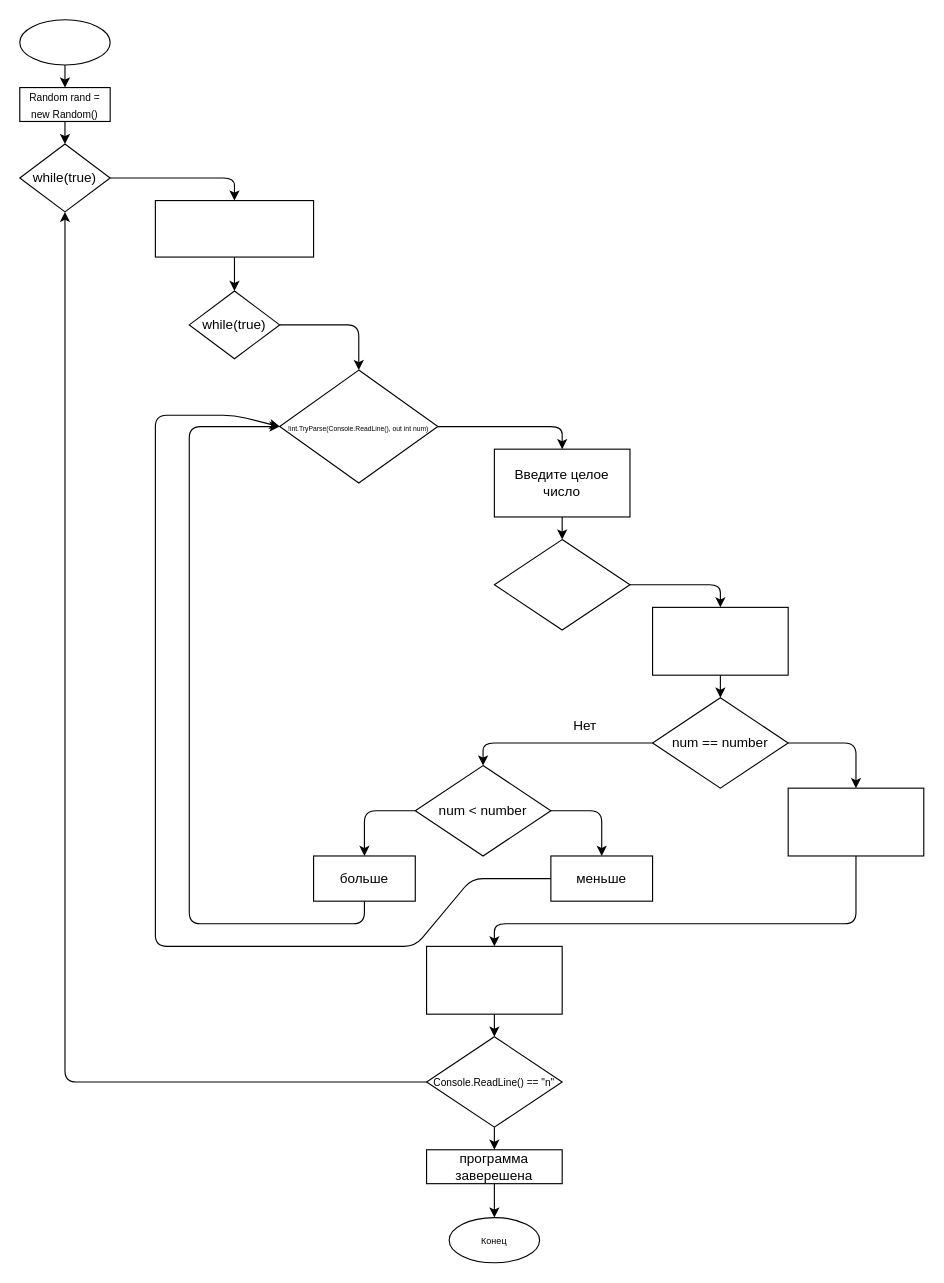
Image size: 944x1283. Some labels were removed from this diagram. Each missing label, with the box of its shape:
int number = rand.Next(1, 101); int count = 0;: (154, 199, 314, 257)
num < 1 || num > 100: (493, 538, 630, 630)
вы угадали: (787, 787, 924, 856)
Играть еще?: (425, 945, 562, 1014)
Начало: (19, 19, 110, 65)
Число в диапазоне от 1 до 100: (651, 606, 788, 675)
